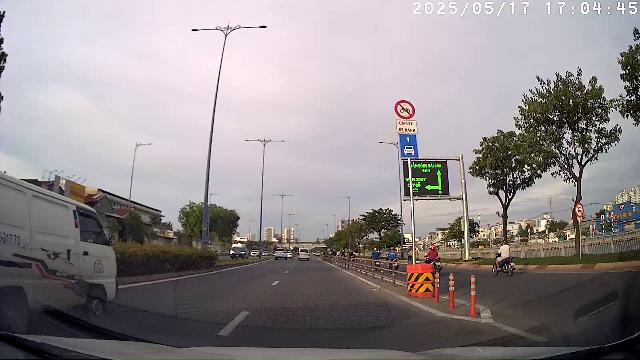103a-cam-oto: (575, 202, 584, 218)
